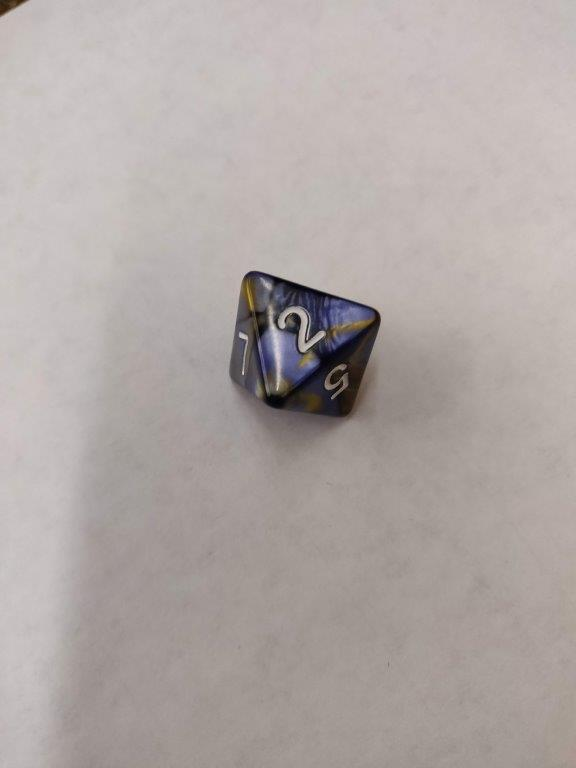d8-2: (227, 270, 382, 420)
